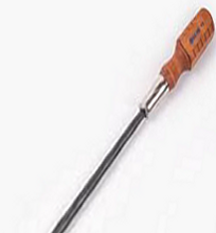Screwdriver: (56, 6, 216, 233)
